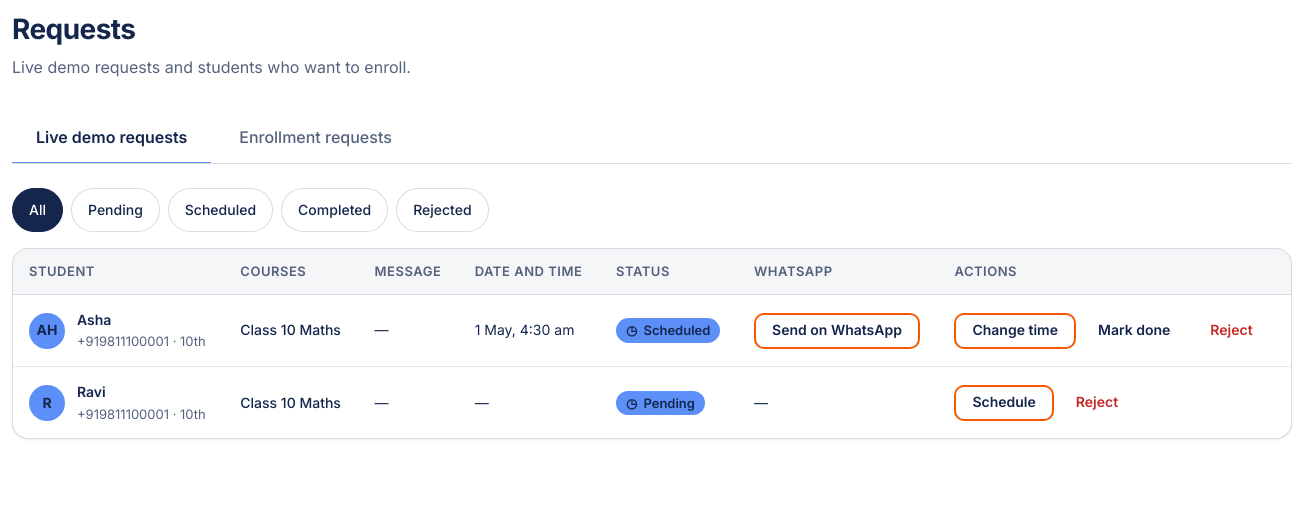
Send on WhatsApp shows Sent, or Not sent with Retry and an Open in WhatsApp fallback
Click the button "Send on WhatsApp" at (837, 331), box left=754, top=313, right=920, bottom=349
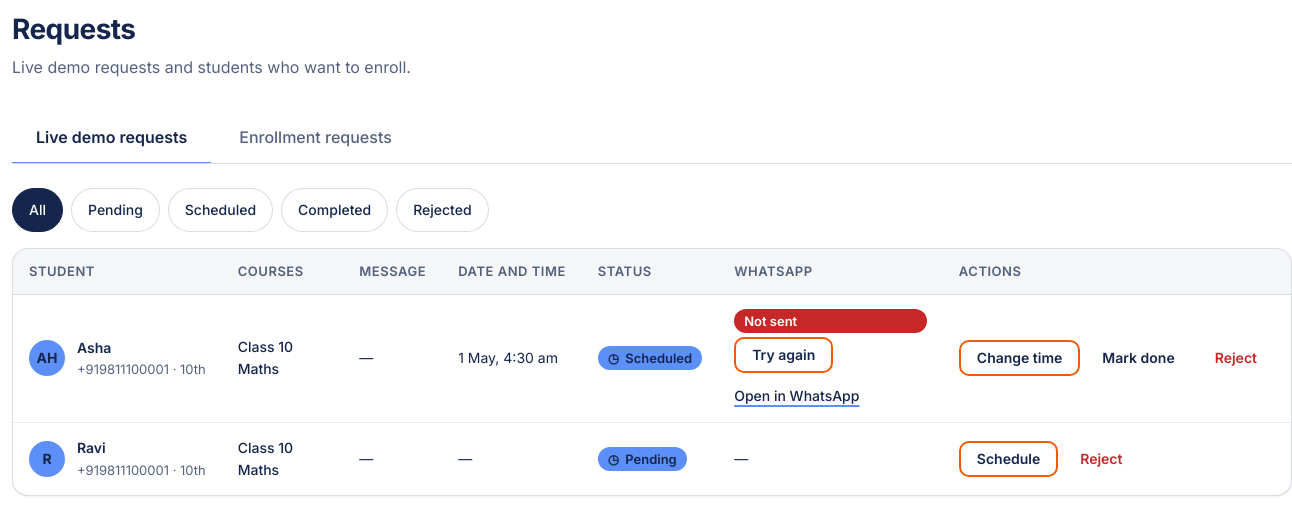
Now the text "Not sent" is shown, box left=734, top=309, right=927, bottom=333
Click the button "Try again" at (784, 355), box left=734, top=337, right=833, bottom=373
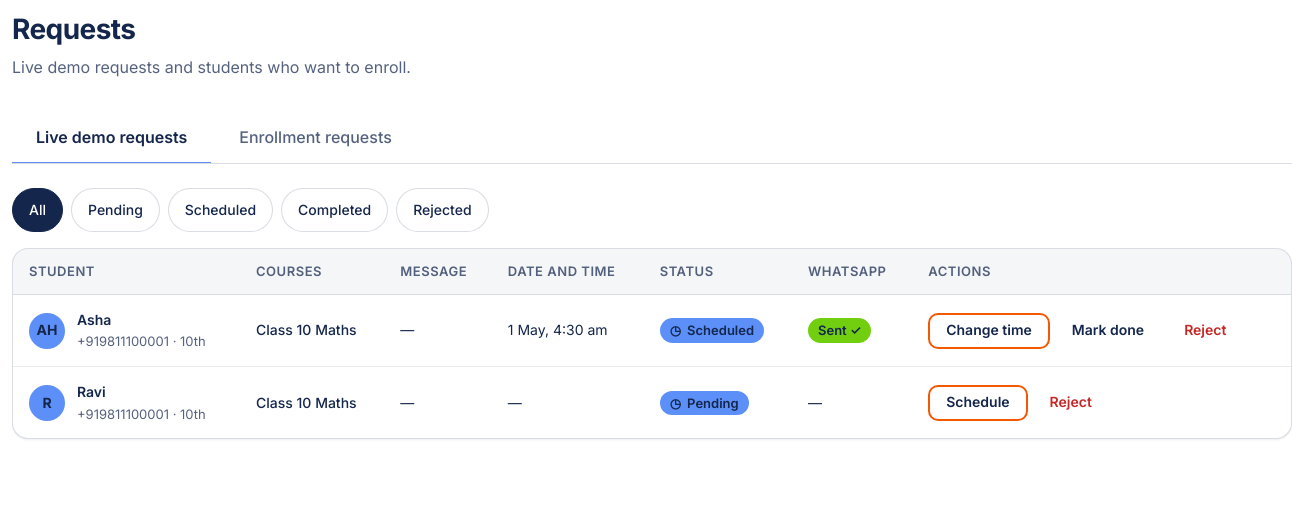
Now the text "Sent ✓" is shown, box left=808, top=318, right=871, bottom=343
